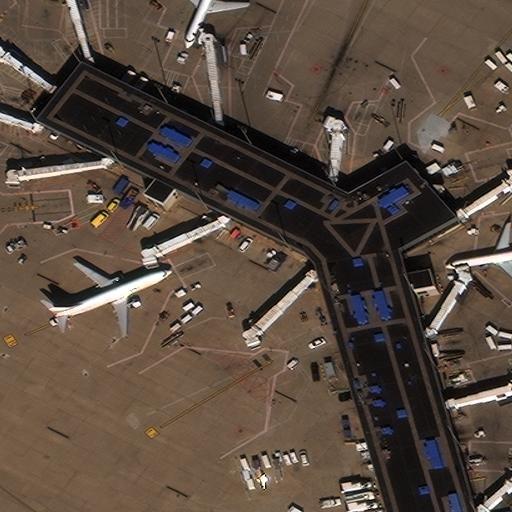Medium Civil Transport: (55, 263, 171, 333), (446, 223, 512, 284), (176, 0, 249, 47)
